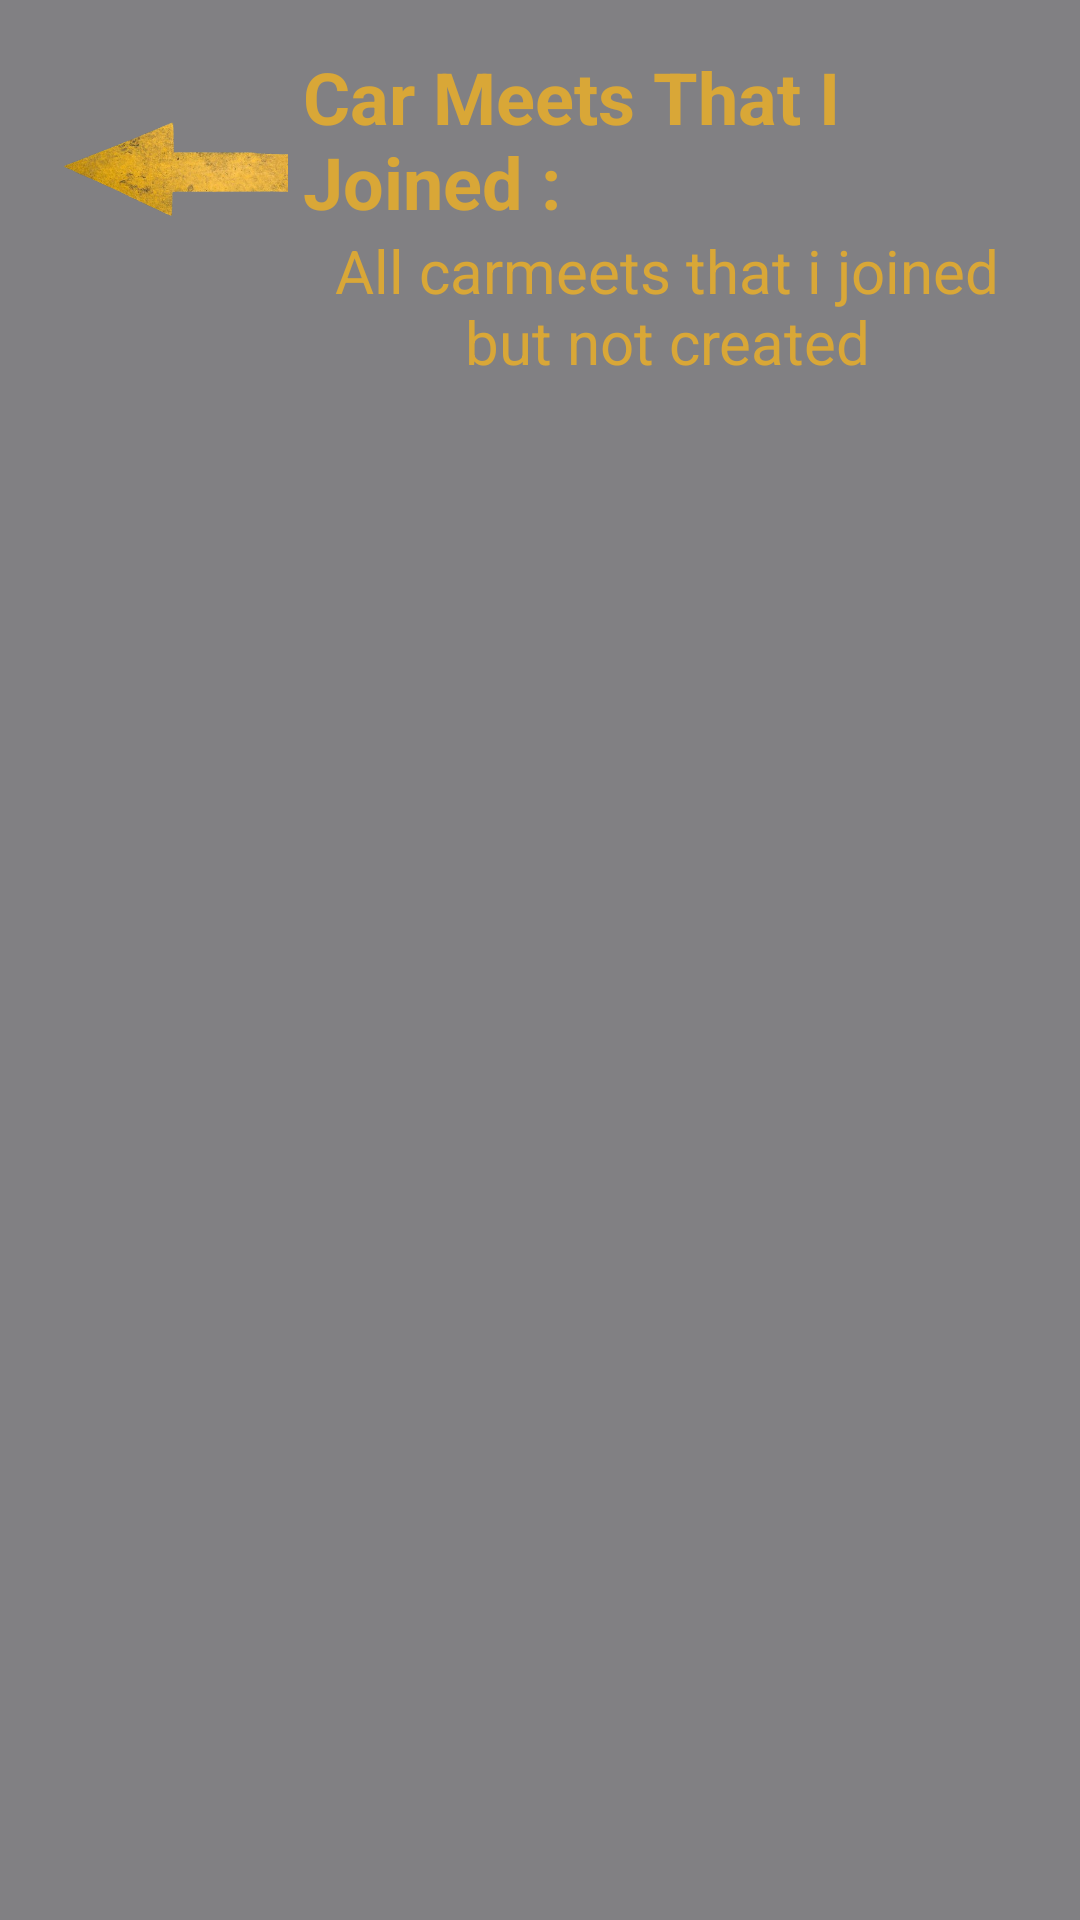

Screen size 1080x1920. Icon name, then its box in pixels as (x1, y1, x2, y2):
back: (64, 123, 288, 216)
